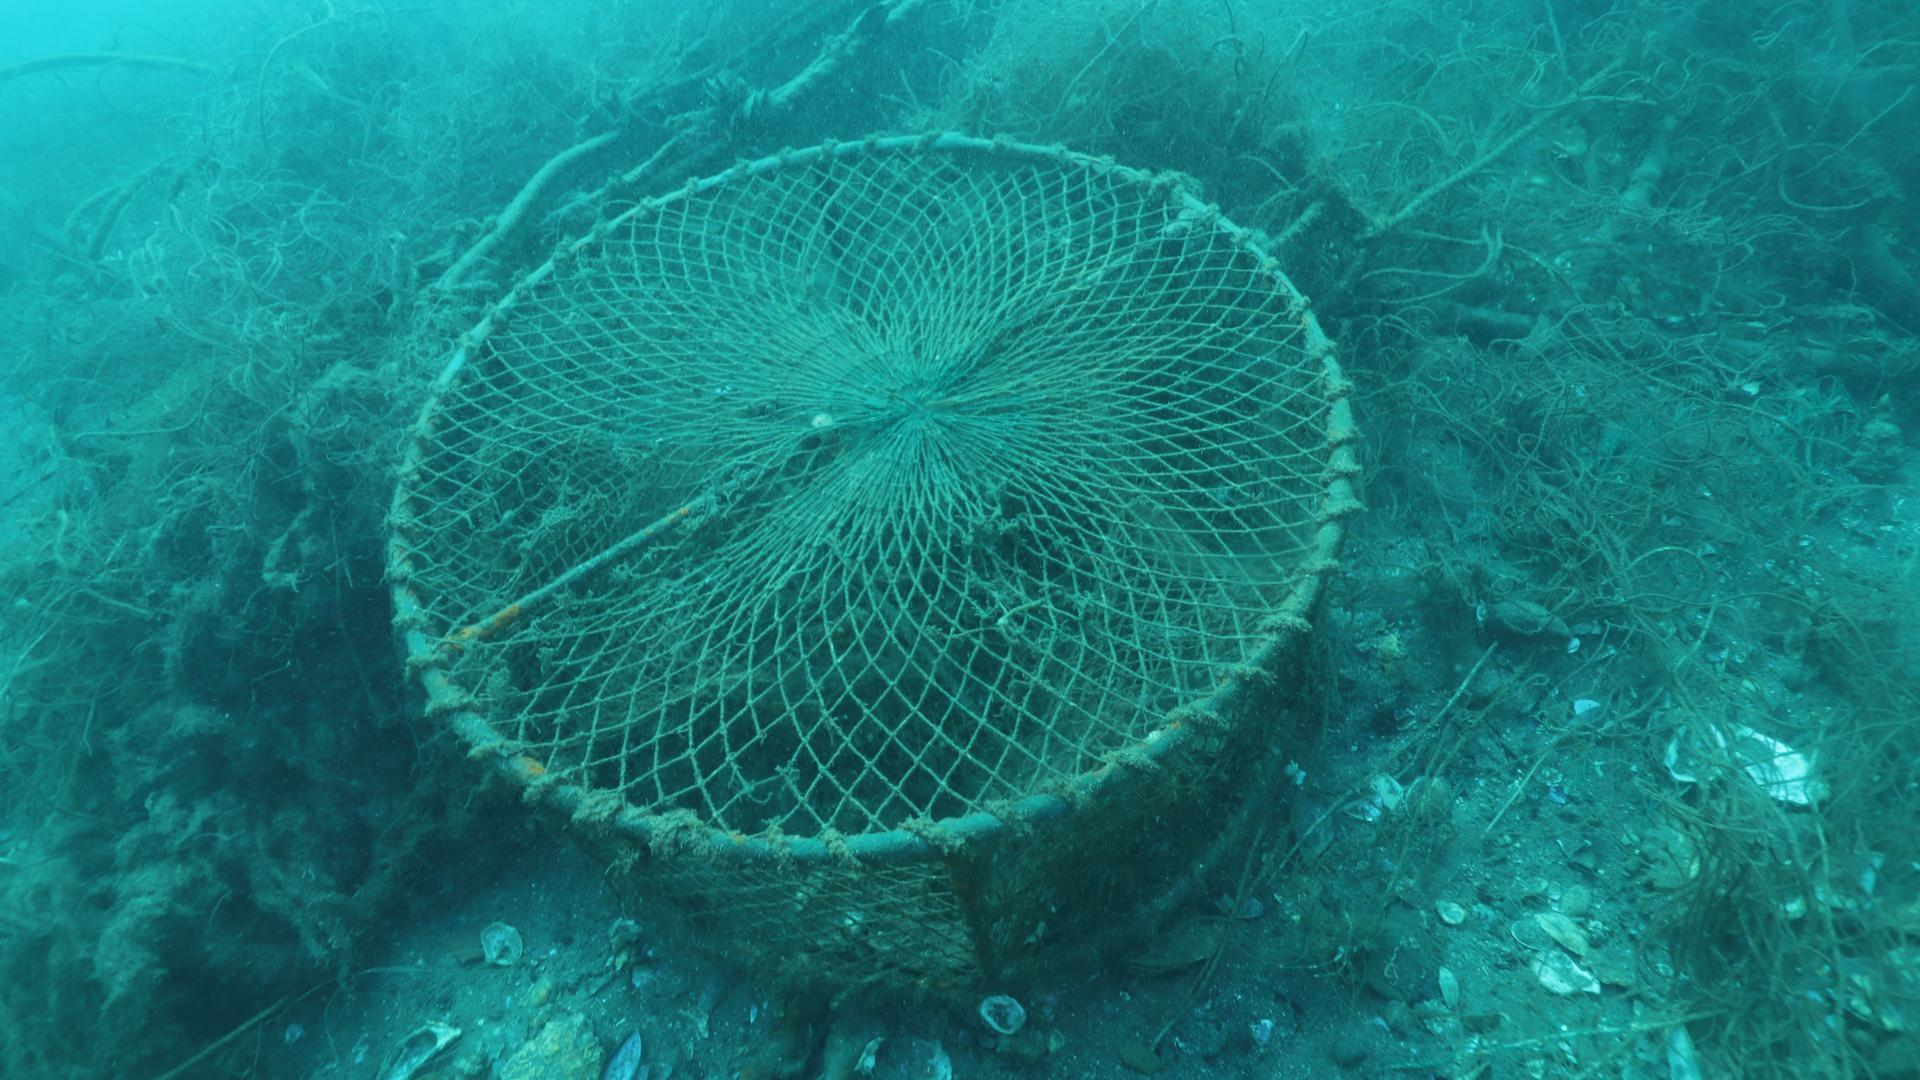circular fish trap: (382, 129, 1356, 1015)
